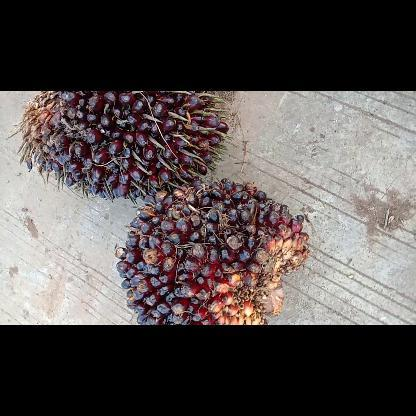TBS mentah: (116, 180, 308, 324), (20, 91, 226, 199)
